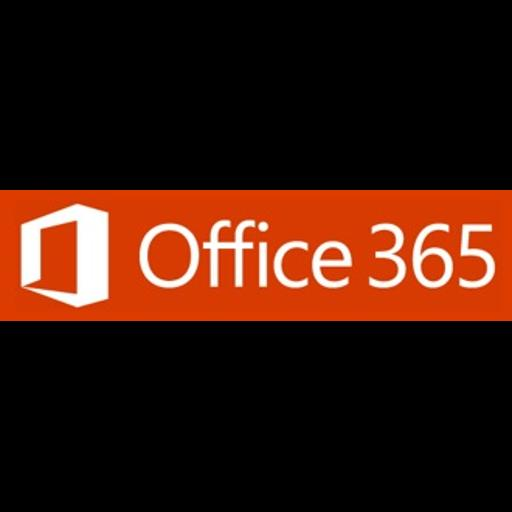Outlook: (0, 190, 512, 321)
